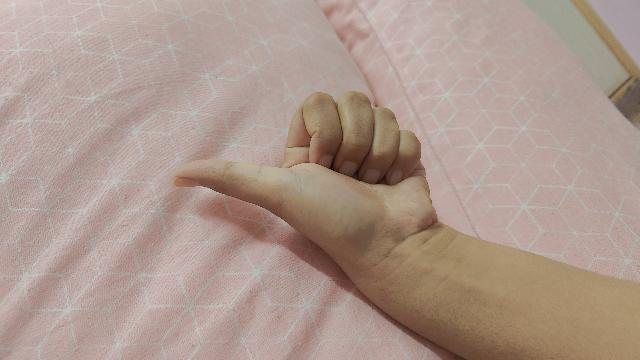shikhar: (171, 92, 640, 360)
